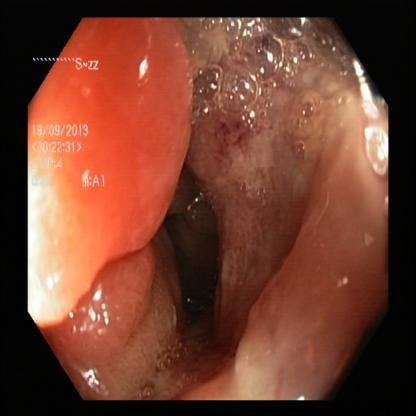Polyps: (26, 30, 191, 323)
